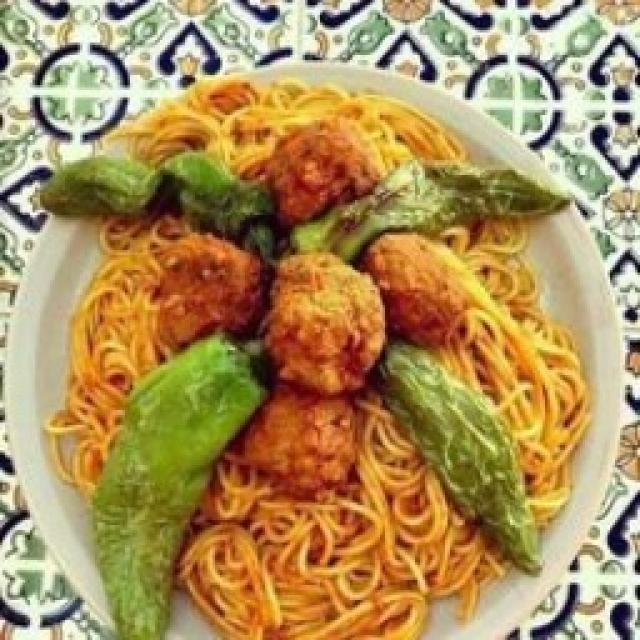Pasta: (18, 60, 628, 640)
